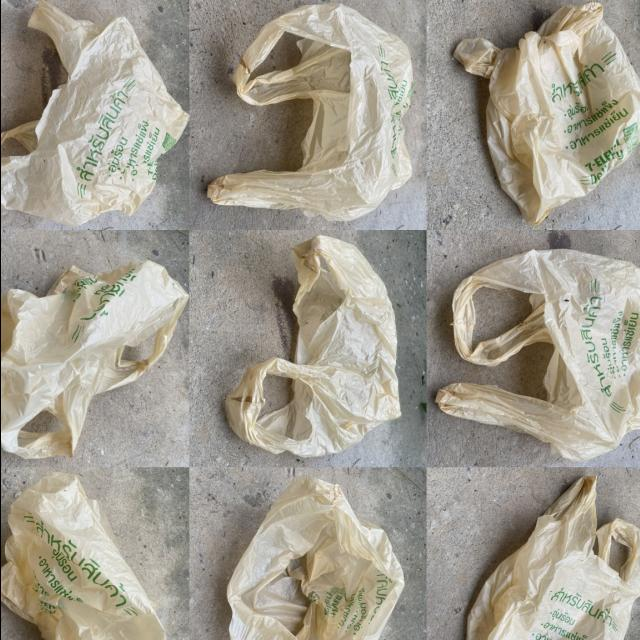plastik: (207, 3, 413, 221), (436, 249, 640, 461), (0, 0, 187, 226), (453, 1, 640, 226), (226, 236, 400, 457), (0, 260, 187, 458), (465, 476, 640, 640), (226, 478, 403, 640), (0, 472, 164, 640)
